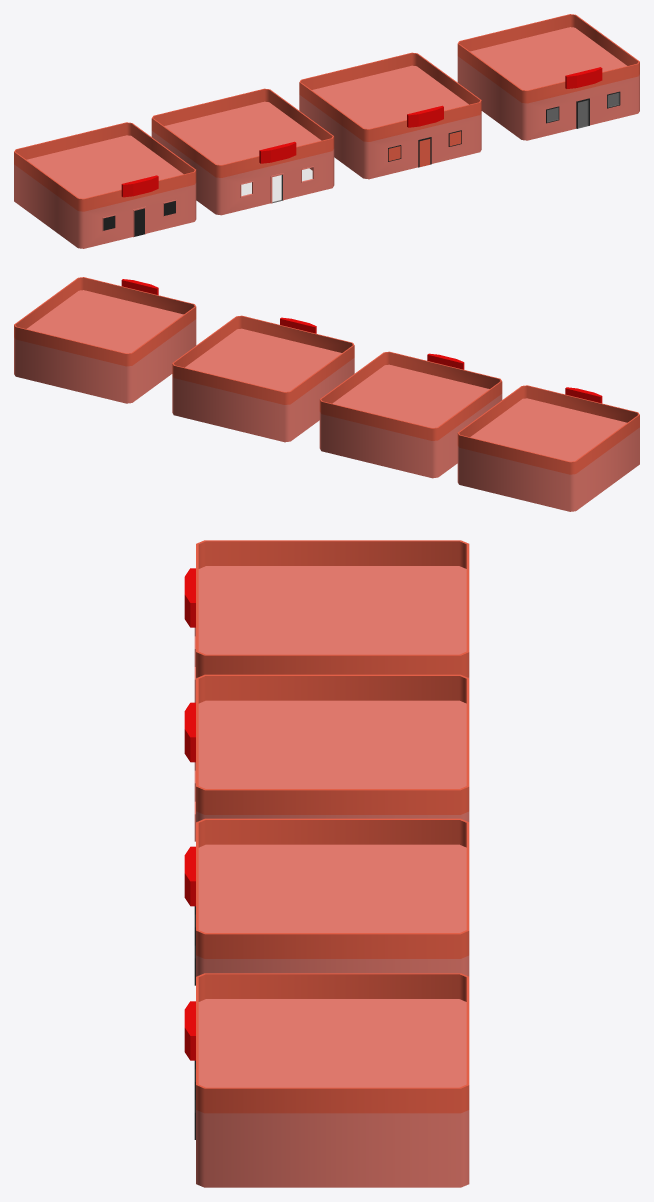
Rendered from EvÇeşit.fbx.
The picture shows the model from 3 angles, top to bottom: view 1: azimuth 30°, elevation 25°; view 2: azimuth 150°, elevation 25°; view 3: azimuth 270°, elevation 25°; orthographic projection. The views are drawn at different scales.
Visible parts, largest first — view 1: Group1, Group4, Group3, Group2; view 2: Group1, Group4, Group3, Group2; view 3: Group4, Group3, Group2, Group1.
Boxes of the visible parts, x1,y1,x2,y2 form: Group1: (14, 122, 196, 248); Group4: (457, 14, 639, 140); Group3: (299, 52, 481, 179); Group2: (151, 88, 334, 215); Group1: (457, 385, 639, 511); Group4: (14, 277, 196, 403); Group3: (172, 315, 354, 442); Group2: (319, 351, 502, 478); Group4: (184, 973, 469, 1187); Group3: (184, 818, 469, 985); Group2: (184, 674, 469, 841); Group1: (184, 540, 469, 702).
Bounding box in the file's own units: 4748 × 450 × 1042.
